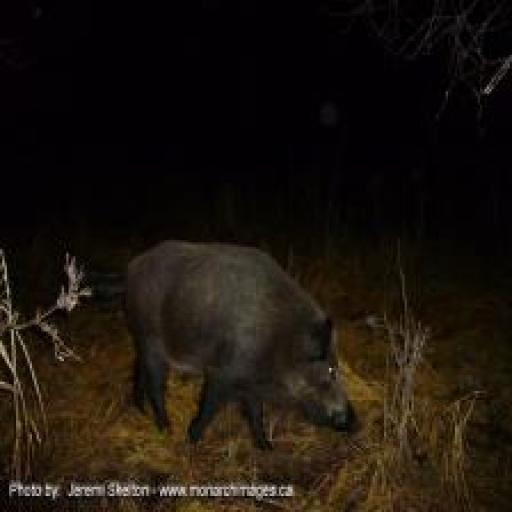Pig: (121, 242, 358, 453)
